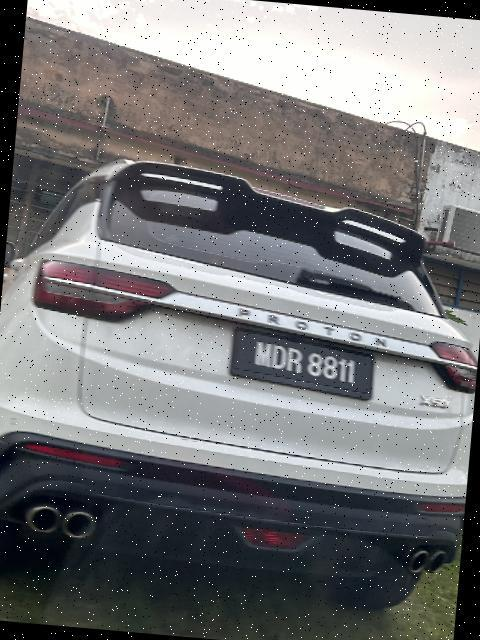License_Plate: (228, 326, 380, 405)
MDR8811: (228, 326, 380, 405)
car: (1, 138, 480, 598)
